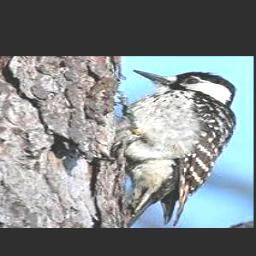Woodpecker: (83, 70, 238, 227)
